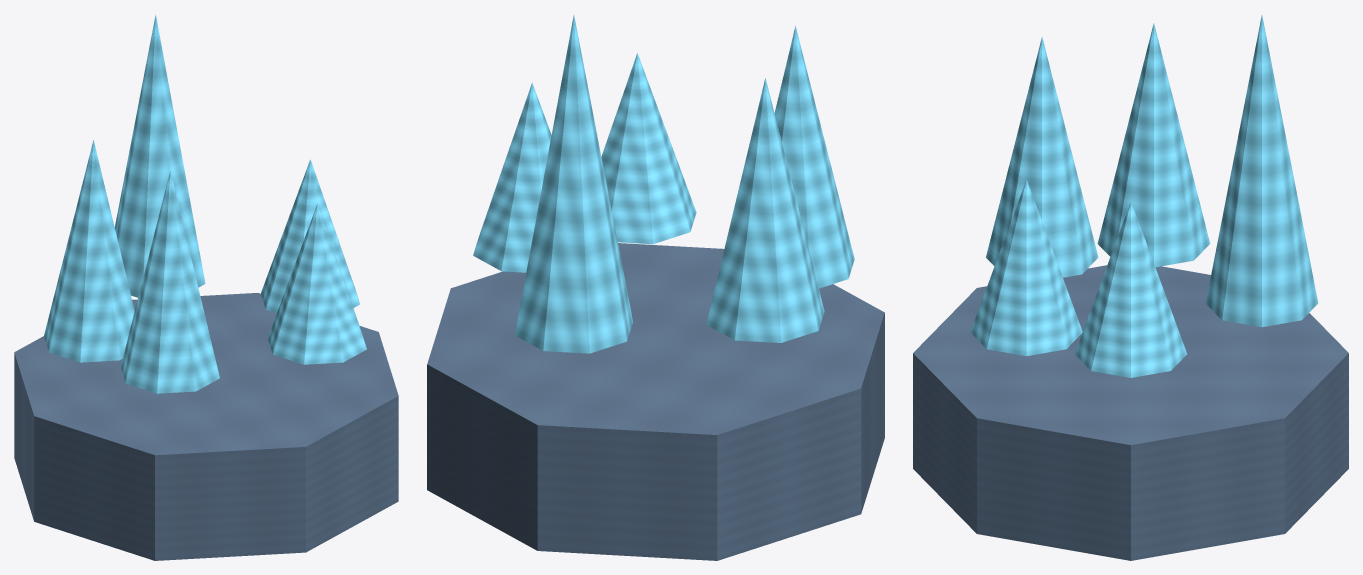
The model's file is atlas100-s051-a12.glb.
3 views of the same model, side by side, from view 1: azimuth 30°, elevation 25°; view 2: azimuth 150°, elevation 25°; view 3: azimuth 270°, elevation 25° (orthographic). The views are drawn at different scales.
Visible parts, largest first — view 1: atlas100-s051-a12:part-000, atlas100-s051-a12:part-002, atlas100-s051-a12:part-005, atlas100-s051-a12:part-003, atlas100-s051-a12:part-004, atlas100-s051-a12:part-001; view 2: atlas100-s051-a12:part-000, atlas100-s051-a12:part-003, atlas100-s051-a12:part-005, atlas100-s051-a12:part-004, atlas100-s051-a12:part-002, atlas100-s051-a12:part-001; view 3: atlas100-s051-a12:part-000, atlas100-s051-a12:part-003, atlas100-s051-a12:part-005, atlas100-s051-a12:part-002, atlas100-s051-a12:part-001, atlas100-s051-a12:part-004.
Boxes of the visible parts, x1=… form: atlas100-s051-a12:part-000: x1=14, y1=293, x2=398, y2=560; atlas100-s051-a12:part-002: x1=120, y1=171, x2=219, y2=393; atlas100-s051-a12:part-005: x1=44, y1=140, x2=134, y2=362; atlas100-s051-a12:part-003: x1=114, y1=14, x2=205, y2=297; atlas100-s051-a12:part-004: x1=267, y1=204, x2=366, y2=364; atlas100-s051-a12:part-001: x1=261, y1=159, x2=359, y2=313; atlas100-s051-a12:part-000: x1=427, y1=243, x2=884, y2=560; atlas100-s051-a12:part-003: x1=515, y1=15, x2=632, y2=353; atlas100-s051-a12:part-005: x1=706, y1=78, x2=824, y2=342; atlas100-s051-a12:part-004: x1=601, y1=53, x2=696, y2=244; atlas100-s051-a12:part-002: x1=774, y1=26, x2=854, y2=288; atlas100-s051-a12:part-001: x1=473, y1=82, x2=551, y2=272; atlas100-s051-a12:part-000: x1=913, y1=265, x2=1348, y2=560; atlas100-s051-a12:part-003: x1=1205, y1=15, x2=1318, y2=327; atlas100-s051-a12:part-005: x1=1097, y1=23, x2=1210, y2=267; atlas100-s051-a12:part-002: x1=986, y1=36, x2=1098, y2=277; atlas100-s051-a12:part-001: x1=1075, y1=201, x2=1186, y2=377; atlas100-s051-a12:part-004: x1=970, y1=179, x2=1082, y2=356.
Bounding box in the file's own units: 1.16 × 1.35 × 1.16.
2 materials, 2 textured.
